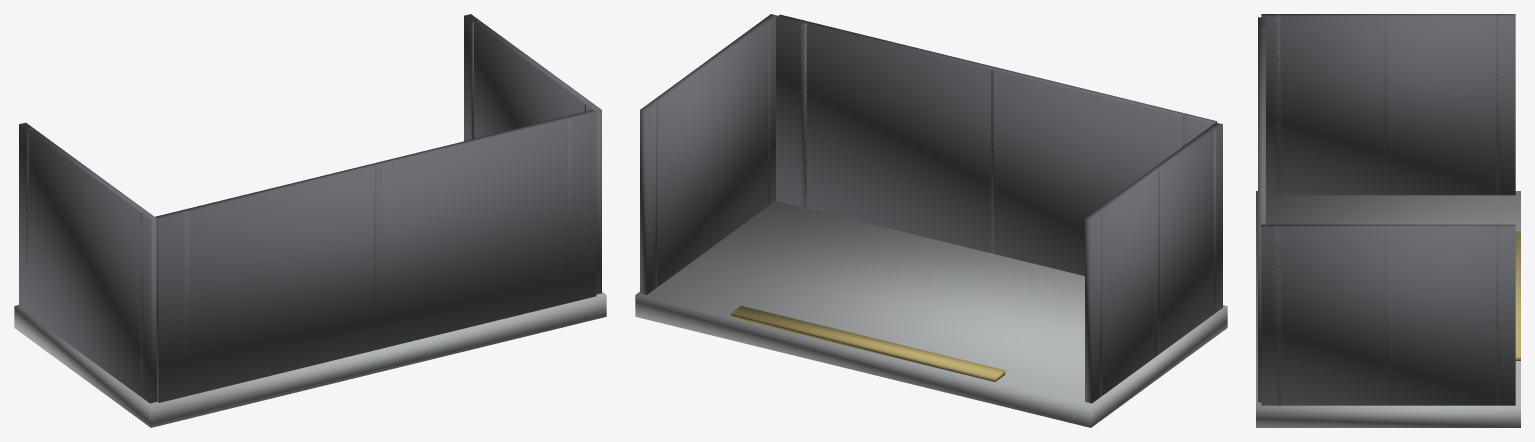
The model's file is floor_w260_d135_three.glb.
3 views of the same model, side by side, from view 1: azimuth 30°, elevation 25°; view 2: azimuth 150°, elevation 25°; view 3: azimuth 270°, elevation 25° (orthographic). The views are drawn at different scales.
Parts seen in each view (by area): view 1: world; view 2: world; view 3: world.
Boxes of the visible parts, left/top/right/bottom form: world: left=14, top=14, right=606, bottom=427; world: left=635, top=14, right=1227, bottom=427; world: left=1256, top=14, right=1520, bottom=427.
Bounding box in the file's own units: 2.6 × 1.12 × 1.35.
